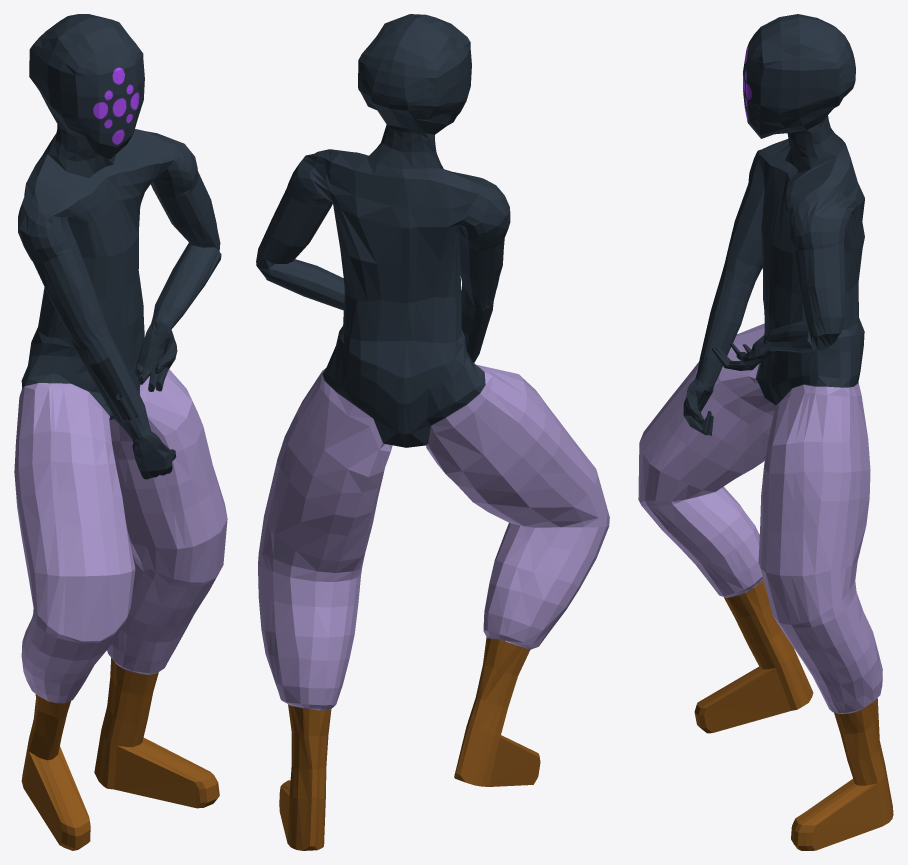
File: Oracle_WL_000021.obj
3 renders of one model, left to right at view 1: azimuth 30°, elevation 25°; view 2: azimuth 150°, elevation 25°; view 3: azimuth 270°, elevation 25°, orthographic. The views are drawn at different scales.
Parts seen in each view (by area): view 1: Cube; view 2: Cube; view 3: Cube.
Part boxes in pixels (x1,y1,x2,y2): Cube: (14,14,227,850); Cube: (256,14,609,850); Cube: (638,14,893,850).
Size of the model in its own units: 1.3 by 3.84 by 1.15.
